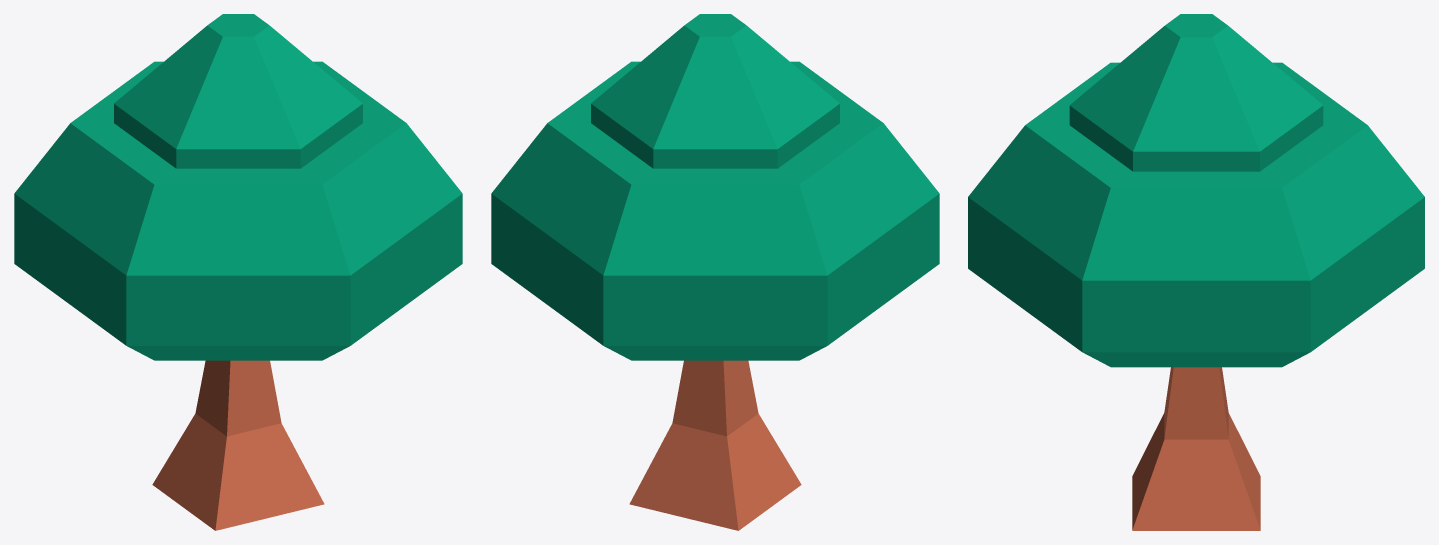
Rendered from tree2.fbx.
3 renders of one model, left to right at view 1: azimuth 30°, elevation 25°; view 2: azimuth 150°, elevation 25°; view 3: azimuth 270°, elevation 25°, orthographic.
Visible parts, largest first — view 1: mergedBlocks; view 2: mergedBlocks; view 3: mergedBlocks.
Boxes of the visible parts, x1=… form: mergedBlocks: x1=14, y1=14, x2=462, y2=530; mergedBlocks: x1=491, y1=14, x2=939, y2=530; mergedBlocks: x1=968, y1=14, x2=1424, y2=530.
Bounding box in the file's own units: 18 × 24 × 20.78.
